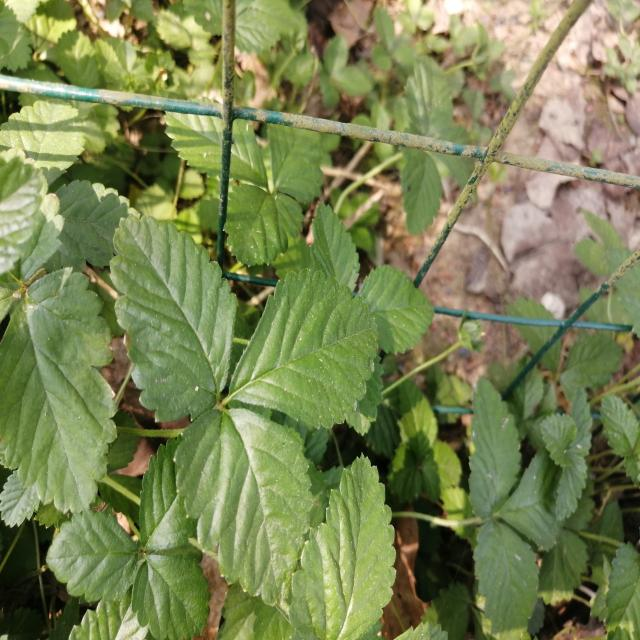Mock_strawberry: (96, 216, 372, 562)
